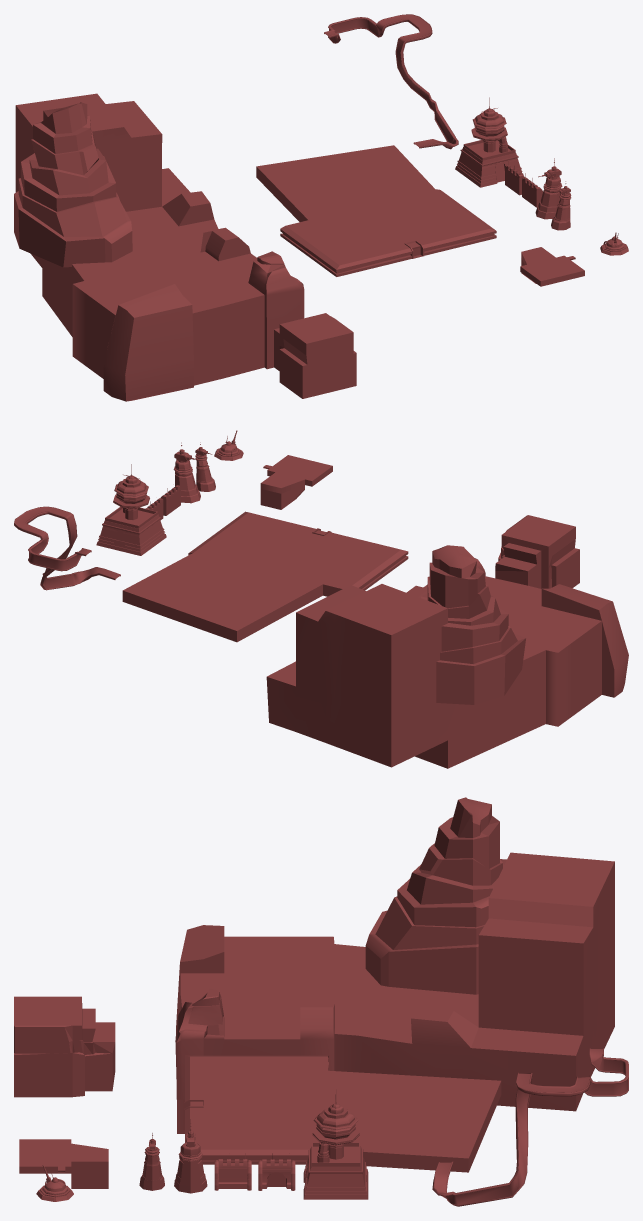
File: background serperated.fbx
3 views of the same model, one above another, from view 1: azimuth 30°, elevation 25°; view 2: azimuth 150°, elevation 25°; view 3: azimuth 270°, elevation 25° (orthographic). The views are drawn at different scales.
Visible parts, largest first — view 1: Citadel_rcok_plat, Far_Plat_A, rock_formation, arch_rock_plat, magnet_ion_path, main, Far_Plat_B, tower2, Citadel1:G_Turret_Base3, base; view 2: Citadel_rcok_plat, Far_Plat_A, rock_formation, arch_rock_plat, magnet_ion_path, Far_Plat_B, main, tower2, Citadel1:G_Turret_Base3, base; view 3: Citadel_rcok_plat, Far_Plat_A, rock_formation, arch_rock_plat, magnet_ion_path, Far_Plat_B, main, tower2, Citadel1:G_Turret_Base3, City_wall, Cit_wall_opening, base (+1 smaller).
Part boxes in pixels (bbox=[...]): Citadel_rcok_plat: bbox=[15, 93, 304, 401]; Far_Plat_A: bbox=[256, 145, 496, 276]; rock_formation: bbox=[14, 102, 132, 267]; arch_rock_plat: bbox=[274, 313, 356, 398]; magnet_ion_path: bbox=[324, 14, 458, 149]; main: bbox=[455, 140, 523, 187]; Far_Plat_B: bbox=[520, 247, 584, 286]; tower2: bbox=[471, 97, 507, 152]; Citadel1:G_Turret_Base3: bbox=[535, 177, 562, 219]; base: bbox=[551, 193, 571, 230]; Citadel_rcok_plat: bbox=[266, 558, 628, 768]; Far_Plat_A: bbox=[122, 511, 408, 642]; rock_formation: bbox=[421, 545, 525, 704]; arch_rock_plat: bbox=[495, 515, 579, 588]; magnet_ion_path: bbox=[14, 506, 120, 590]; Far_Plat_B: bbox=[260, 455, 332, 509]; main: bbox=[96, 506, 166, 555]; tower2: bbox=[113, 464, 149, 519]; Citadel1:G_Turret_Base3: bbox=[173, 460, 200, 503]; base: bbox=[195, 454, 215, 491]; Citadel_rcok_plat: bbox=[175, 852, 614, 1133]; Far_Plat_A: bbox=[184, 1055, 501, 1172]; rock_formation: bbox=[365, 797, 506, 994]; arch_rock_plat: bbox=[14, 996, 115, 1097]; magnet_ion_path: bbox=[432, 1048, 628, 1206]; Far_Plat_B: bbox=[19, 1139, 108, 1188]; main: bbox=[303, 1142, 368, 1199]; tower2: bbox=[312, 1089, 359, 1159]; Citadel1:G_Turret_Base3: bbox=[174, 1142, 207, 1193]; City_wall: bbox=[214, 1159, 251, 1190]; Cit_wall_opening: bbox=[258, 1159, 295, 1190]; base: bbox=[139, 1147, 164, 1190].
Bounding box in the file's own units: 87.62 × 36.92 × 80.07.
